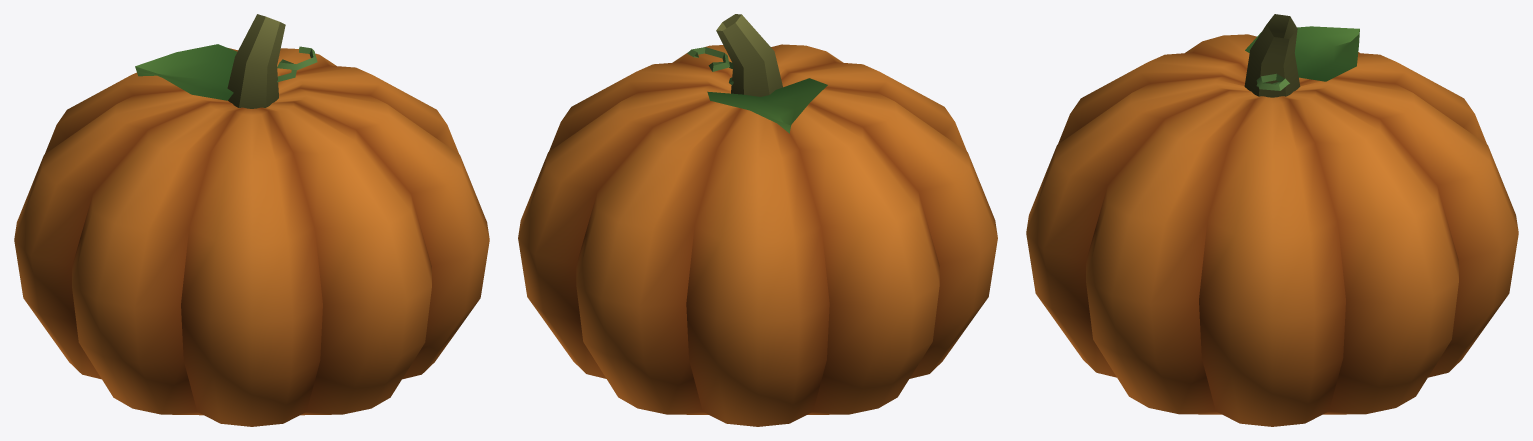
Rendered from pumpkin.glb.
3 renders of one model, left to right at view 1: azimuth 30°, elevation 25°; view 2: azimuth 150°, elevation 25°; view 3: azimuth 270°, elevation 25°, orthographic. The views are drawn at different scales.
Parts seen in each view (by area): view 1: pumpkin; view 2: pumpkin; view 3: pumpkin.
Part boxes in pixels (x1,y1,x2,y2): pumpkin: (14, 14, 489, 426); pumpkin: (518, 14, 997, 426); pumpkin: (1026, 14, 1518, 426).
Bounding box in the file's own units: 1.02 × 0.8581 × 1.02.
